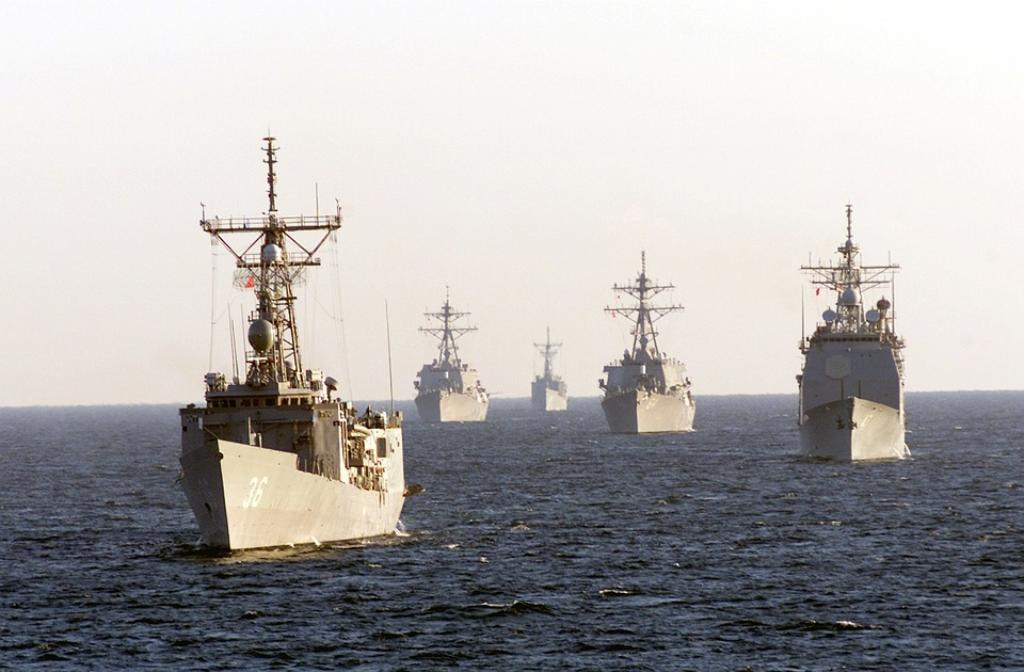Warship: (170, 189, 418, 550), (791, 208, 919, 458), (594, 249, 700, 432), (411, 288, 497, 424), (526, 320, 576, 416)
